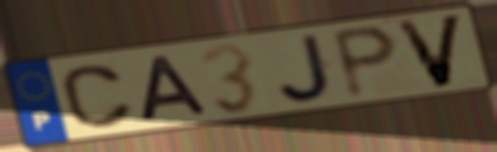3: (199, 41, 262, 117)
A: (135, 52, 214, 125)
C: (58, 63, 138, 131)
J: (275, 31, 340, 106)
P: (328, 23, 402, 102)
V: (391, 12, 468, 91)
